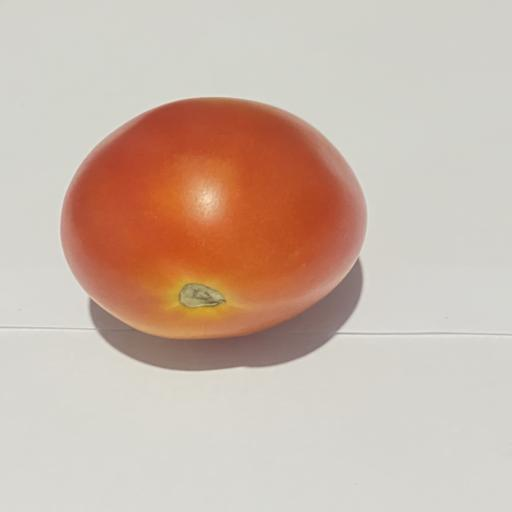ripe: (61, 98, 366, 338)
